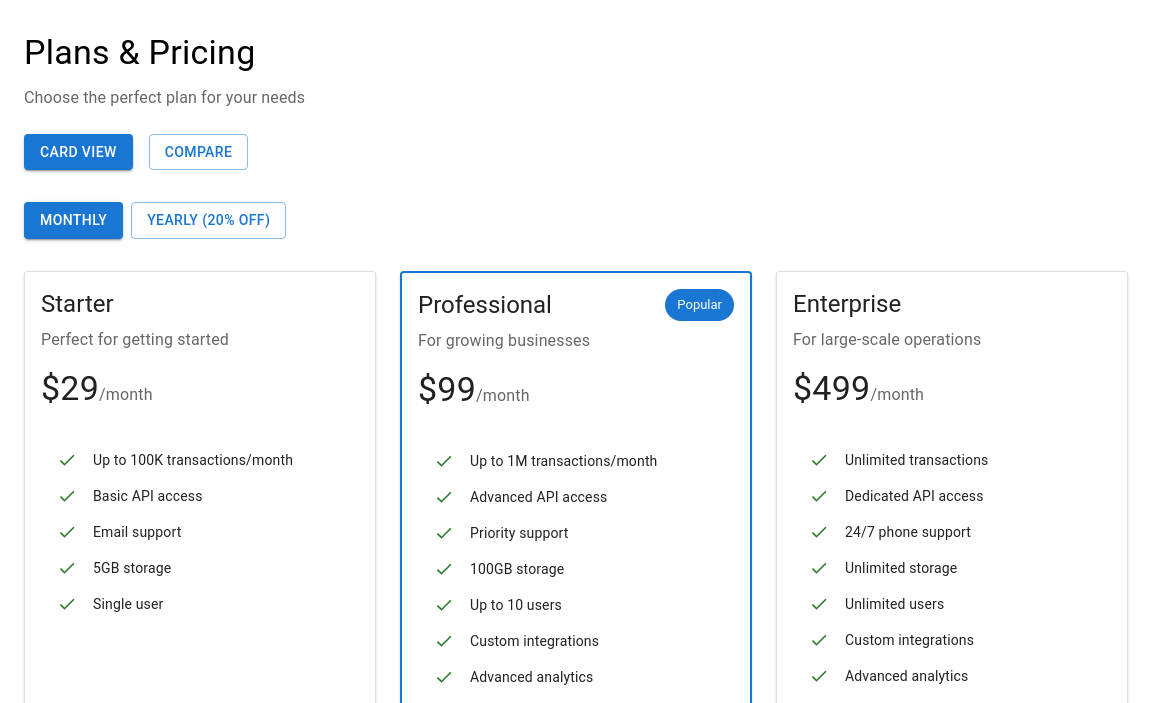
Test: PlansPage › switches to comparison view
The width and height of the screenshot is (1152, 703).
Expected: the button "Card View" is shown, [24,134,133,170]
Click the button "Compare".
click(198, 152)  # box [149,134,248,170]
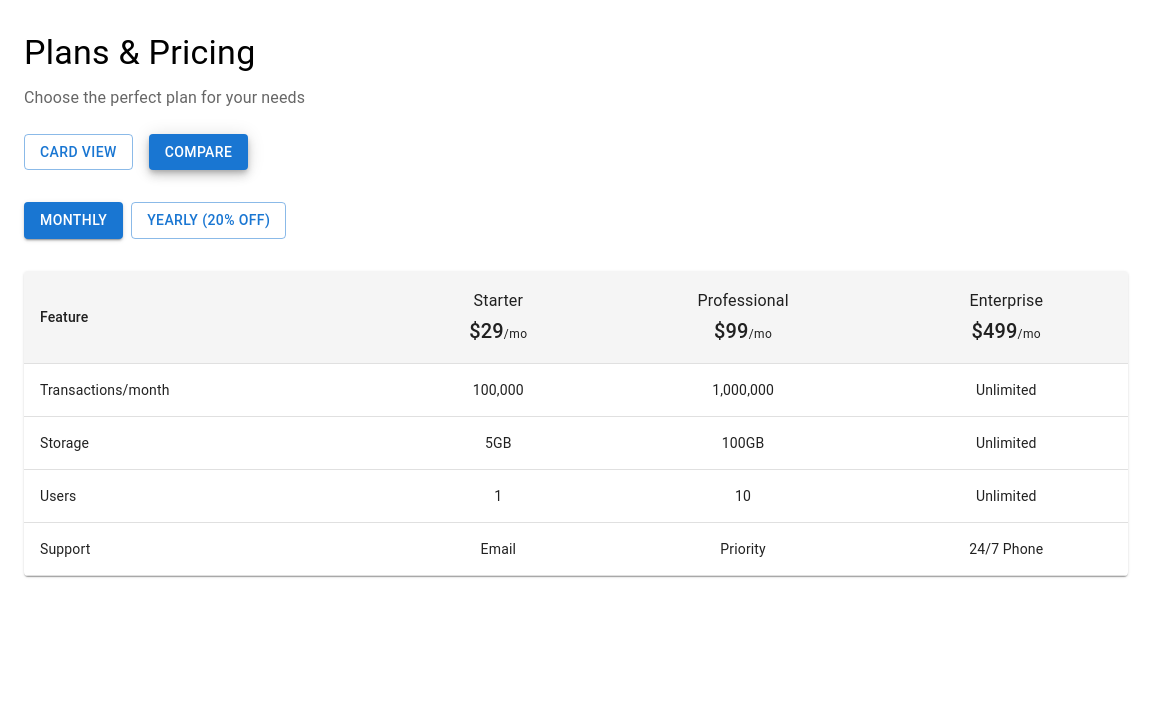
Expected: the table is shown, [24,271,1128,576]
